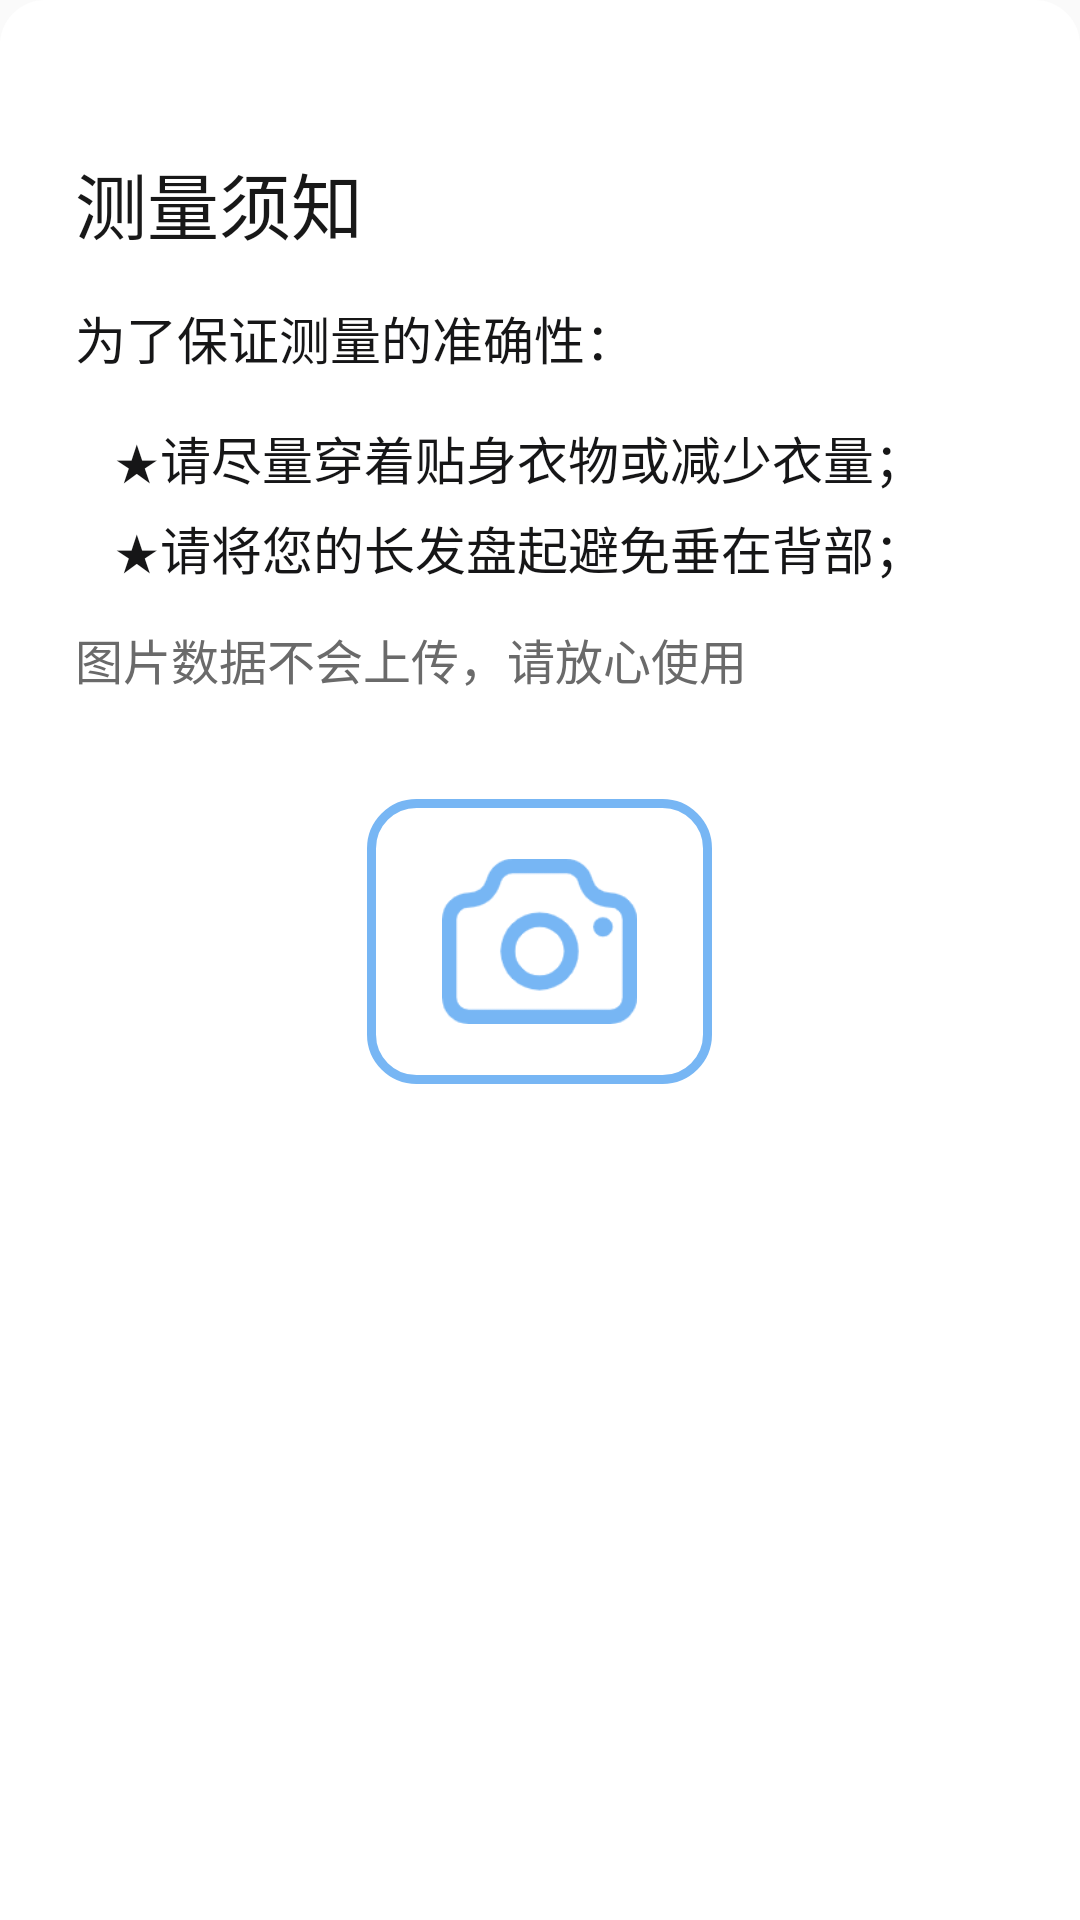

Icon click points for this 1080px×1920px phone screenshot, format point (x, y):
camera: point (539, 941)
